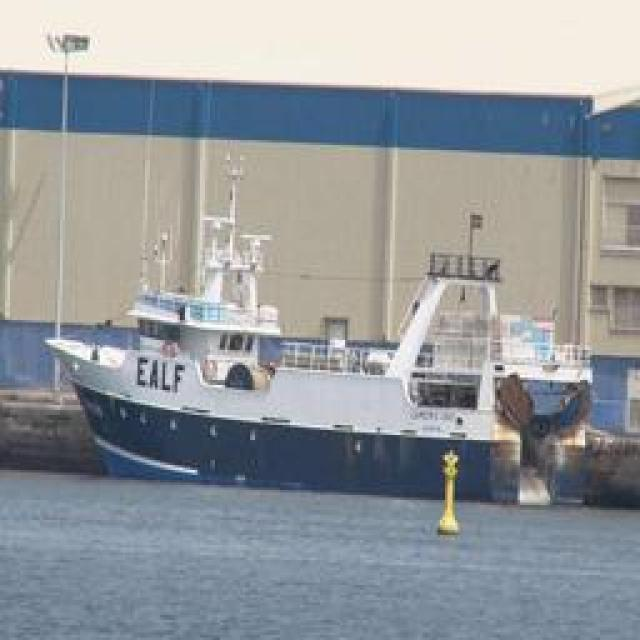CIV_Ship: (49, 221, 599, 489)
